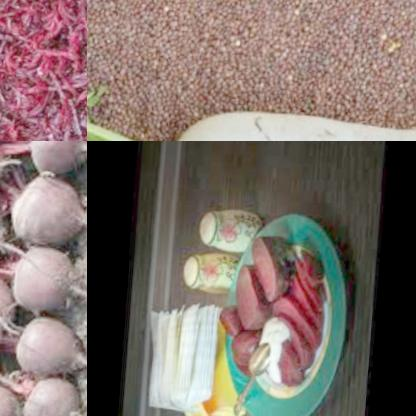beet: (0, 0, 87, 141), (272, 243, 330, 393), (11, 238, 83, 313), (11, 171, 87, 242), (11, 315, 87, 377), (249, 229, 293, 302), (217, 308, 265, 371), (231, 266, 275, 333), (26, 141, 87, 176), (0, 265, 28, 339), (0, 328, 20, 402), (0, 197, 19, 268)
redka: (162, 104, 416, 141)
